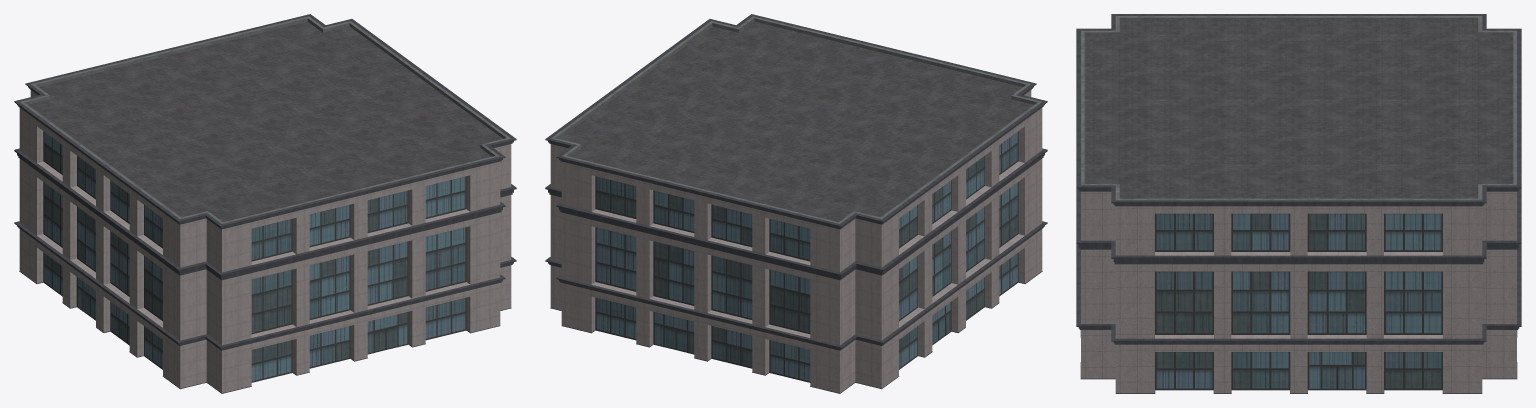
The model's file is jctBld50C_btm_low.fbx.
3 renders of one model, left to right at view 1: azimuth 30°, elevation 25°; view 2: azimuth 150°, elevation 25°; view 3: azimuth 270°, elevation 25°, orthographic. The views are drawn at different scales.
Parts seen in each view (by area): view 1: jctBld50C_btm_low; view 2: jctBld50C_btm_low; view 3: jctBld50C_btm_low.
Part boxes in pixels (<box>): jctBld50C_btm_low: <box>14,14,516,393</box>; jctBld50C_btm_low: <box>545,14,1047,393</box>; jctBld50C_btm_low: <box>1076,14,1521,393</box>.
Size of the model in its own units: 5104 by 2450 by 5104.
